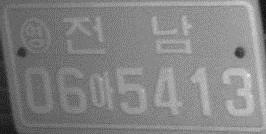0: (23, 65, 54, 115)
1: (186, 66, 218, 116)
3: (221, 66, 256, 117)
4: (152, 66, 182, 115)
5: (116, 67, 147, 116)
6: (56, 66, 88, 114)
아: (89, 71, 114, 111)
영: (19, 18, 53, 54)
전남_D: (62, 15, 193, 56)
